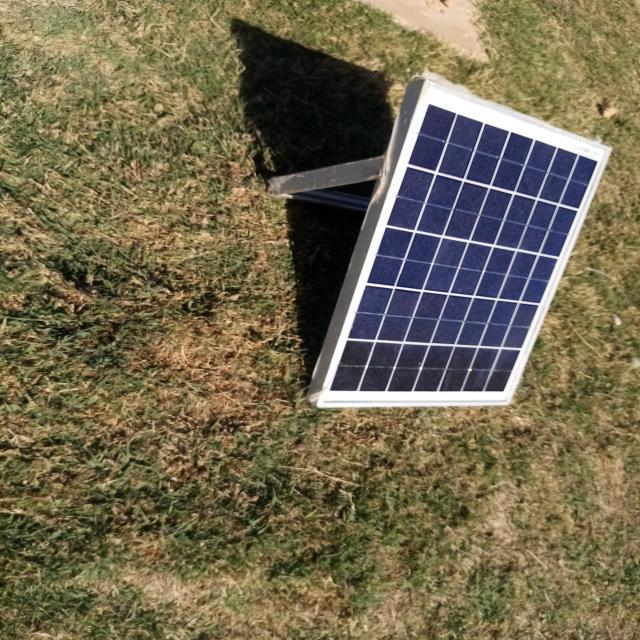no faulty: (321, 79, 609, 404)
